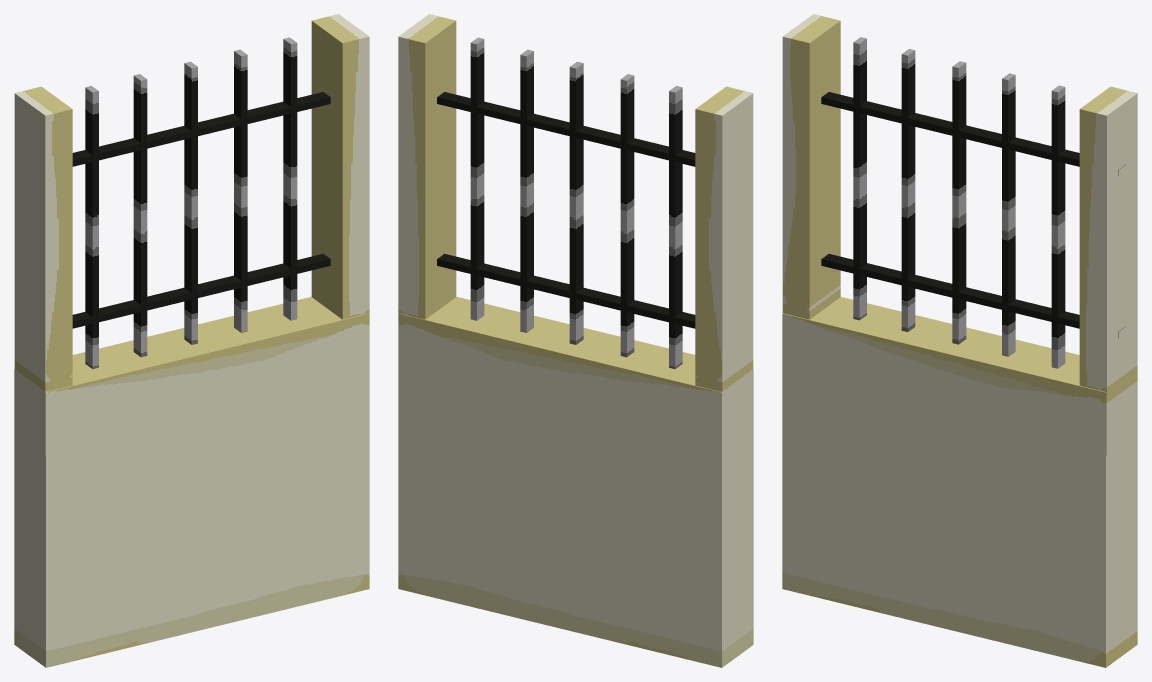
File: grille.glb
3 renders of one model, left to right at view 1: azimuth 30°, elevation 25°; view 2: azimuth 150°, elevation 25°; view 3: azimuth 330°, elevation 25°, orthographic.
Visible parts, largest first — view 1: Cube.001; view 2: Cube.001; view 3: Cube.001.
Part boxes in pixels (<box>): Cube.001: <box>14,14,369,667</box>; Cube.001: <box>398,14,753,667</box>; Cube.001: <box>782,14,1137,667</box>.
Bounding box in the file's own units: 2.09 × 3.39 × 0.3541.
1 material, 1 textured.
